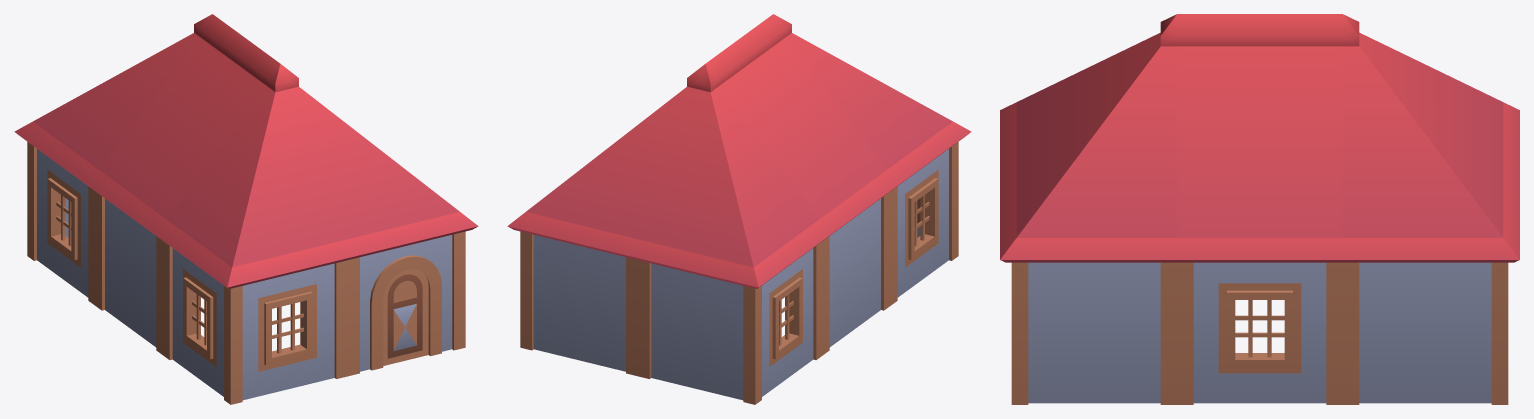
File: house.glb
3 renders of one model, left to right at view 1: azimuth 30°, elevation 25°; view 2: azimuth 150°, elevation 25°; view 3: azimuth 270°, elevation 25°, orthographic. The views are drawn at different scales.
Parts seen in each view (by area): view 1: house; view 2: house; view 3: house.
Part boxes in pixels (x1,y1,x2,y2): house: (14,14,478,404); house: (507,14,971,404); house: (1000,14,1519,404).
Size of the model in its own units: 6.42 by 6.42 by 9.42.
Materials: 16 (16 with a texture image).
